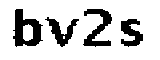2: (80, 6, 114, 51)
b: (9, 7, 43, 49)
s: (118, 16, 144, 51)
v: (44, 14, 78, 49)
